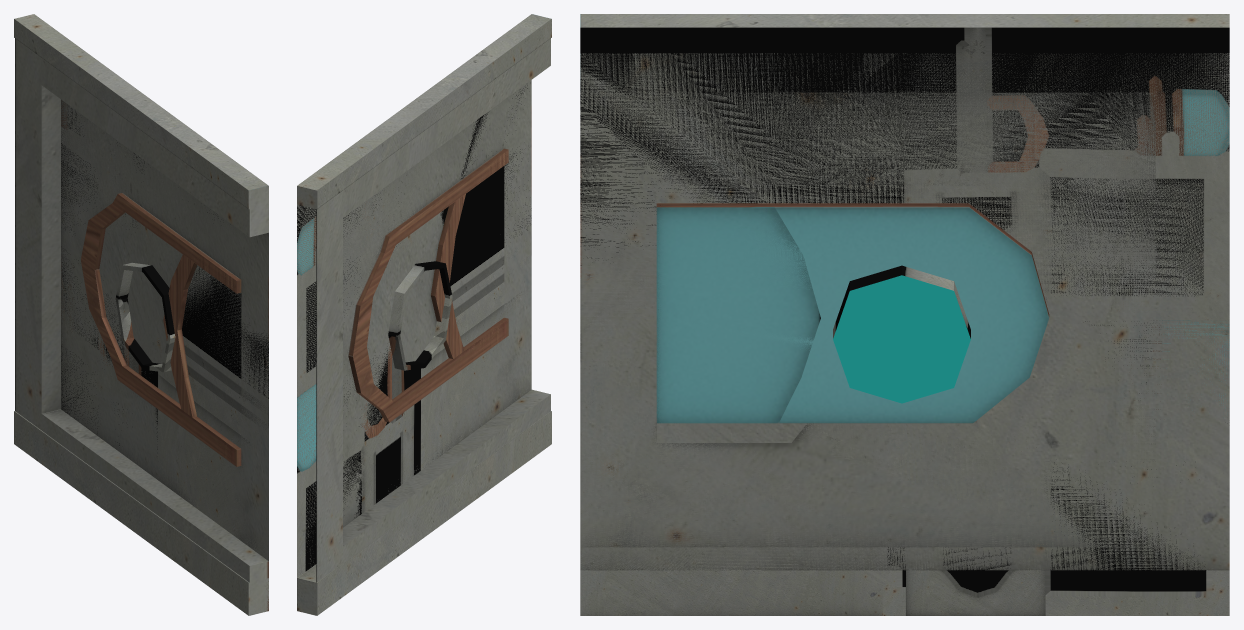
The model's file is SingleWIndow14.fbx.
3 renders of one model, left to right at view 1: azimuth 30°, elevation 25°; view 2: azimuth 150°, elevation 25°; view 3: azimuth 270°, elevation 25°, orthographic. The views are drawn at different scales.
Visible parts, largest first — view 1: Plane.003, Plane.001, Plane.002, Plane.000; view 2: Plane.003, Plane.000, Plane.001, Plane.002; view 3: Plane.001, Plane.000, Plane.003, Plane.002.
Boxes of the visible parts, x1,y1,x2,y2 form: Plane.003: (15,38,268,614); Plane.001: (14,14,268,615); Plane.002: (61,113,241,465); Plane.000: (61,101,268,558); Plane.003: (316,38,550,582); Plane.000: (297,85,531,577); Plane.001: (297,14,551,615); Plane.002: (343,100,508,526); Plane.001: (580,14,1229,570); Plane.000: (580,27,1229,615); Plane.003: (580,92,1155,547); Plane.002: (656,92,1155,547).
Bounding box in the file's own units: 9.86 × 100 × 100.
